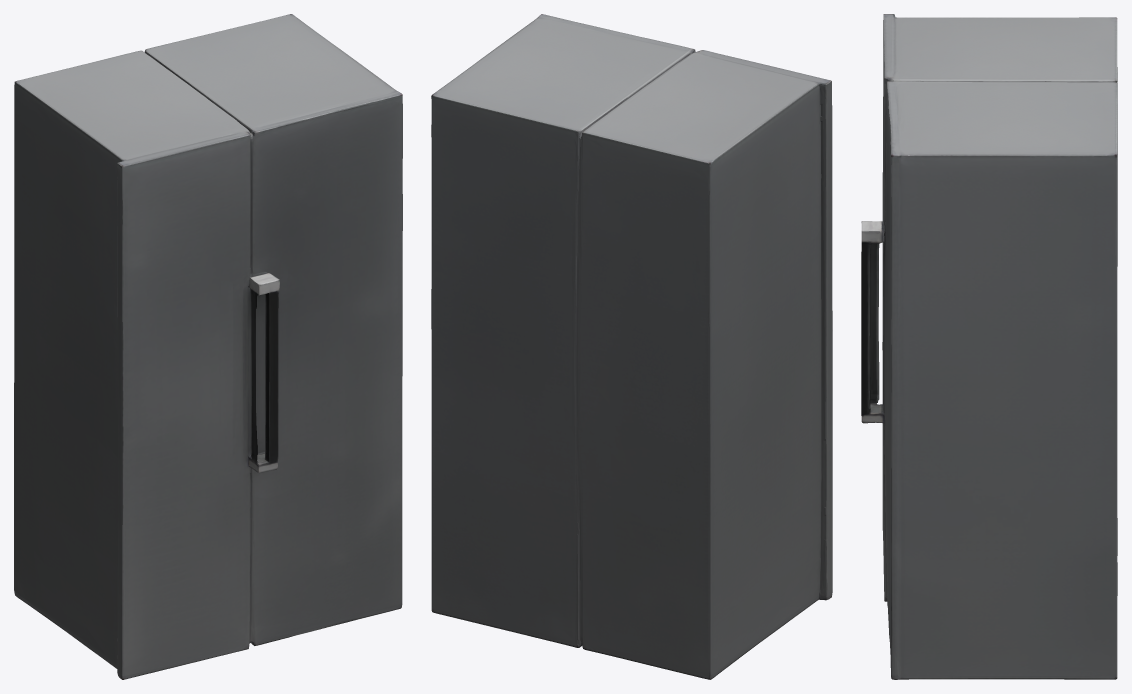
Rendered from dff536_defy_fridge_side_by_side_d300.glb.
3 views of the same model, side by side, from view 1: azimuth 30°, elevation 25°; view 2: azimuth 150°, elevation 25°; view 3: azimuth 270°, elevation 25° (orthographic). The views are drawn at different scales.
Parts seen in each view (by area): view 1: world; view 2: world; view 3: world.
Part boxes in pixels (left/top/right/bottom): world: left=14, top=14, right=402, bottom=679; world: left=431, top=14, right=832, bottom=679; world: left=861, top=14, right=1117, bottom=679.
Bounding box in the file's own units: 0.5799 × 1 × 0.4426.
Materials: 1 (1 with a texture image).
